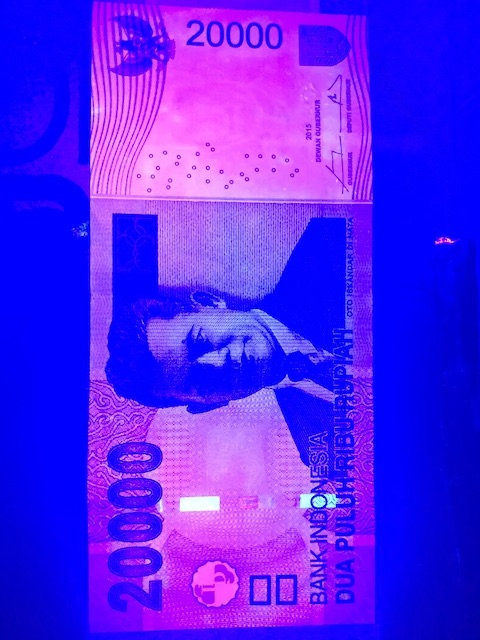PITA_BERSINAR: (173, 488, 338, 514)
